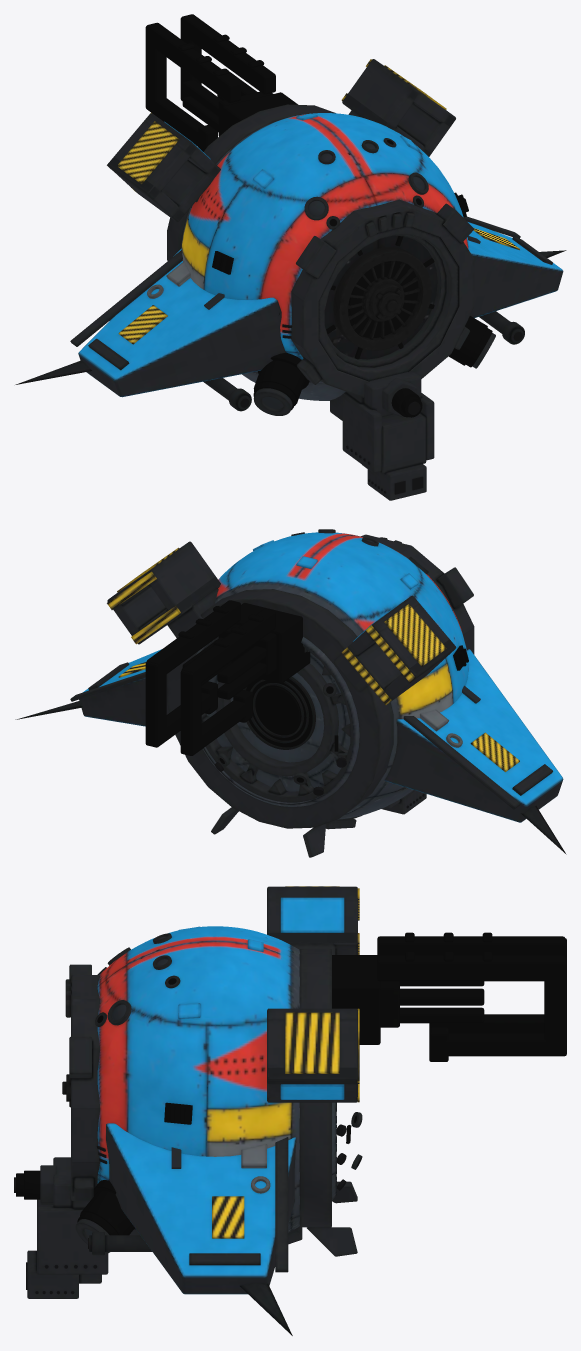
Rendered from probe.glb.
3 views of the same model, one above another, from view 1: azimuth 30°, elevation 25°; view 2: azimuth 150°, elevation 25°; view 3: azimuth 270°, elevation 25° (orthographic). The views are drawn at different scales.
Visible parts, largest first — view 1: Shell, FaceRing, Pod-1, ClampArms, Jaw, EyeBlades, Bracket+1, Pod+1, Bracket-1, EngineRing, BracketHazard-1, Port-1 (+8 smaller); view 2: Shell, EngineRing, ClampArms, Pod-1, Bracket+1, Bracket-1, BracketHazard-1, Pod+1, FaceRing, EngineCore, EngineRings, EngineGlow (+8 smaller); view 3: Shell, ClampArms, Pod+1, FaceRing, Jaw, EngineRing, Bracket+1, BracketHazard+1, Bracket-1, BracketPanel-1, PodEdgeBack+1, Port+1 (+10 smaller).
Part boxes in pixels (box(x1,y1,x2,y2)): Shell: box(181, 113, 468, 400); FaceRing: box(291, 199, 474, 397); Pod-1: box(78, 248, 286, 397); ClampArms: box(145, 14, 298, 151); Jaw: box(330, 371, 434, 500); EyeBlades: box(333, 247, 431, 350); Bracket+1: box(342, 59, 455, 156); Pod+1: box(468, 222, 563, 317); Bracket-1: box(107, 113, 220, 222); EngineRing: box(167, 104, 335, 260); BracketHazard-1: box(107, 112, 179, 190); Port-1: box(253, 352, 309, 410); Shell: box(196, 532, 468, 819); EngineRing: box(167, 589, 393, 828); ClampArms: box(145, 600, 310, 755); Pod-1: box(384, 649, 563, 822); Bracket+1: box(107, 541, 220, 644); Bracket-1: box(334, 595, 456, 703); BracketHazard-1: box(341, 604, 446, 704); Pod+1: box(79, 649, 169, 726); FaceRing: box(361, 534, 474, 654); EngineCore: box(257, 687, 300, 733); EngineRings: box(243, 676, 315, 749); EngineGlow: box(246, 678, 312, 747); Shell: box(97, 926, 336, 1232); ClampArms: box(332, 932, 566, 1061); Pod+1: box(106, 1123, 296, 1294); FaceRing: box(65, 964, 99, 1200); Jaw: box(27, 1157, 139, 1298); EngineRing: box(299, 949, 331, 1227); Bracket+1: box(267, 1008, 357, 1102); BracketHazard+1: box(285, 1008, 359, 1102); Bracket-1: box(267, 886, 357, 954); BracketPanel-1: box(280, 897, 344, 932); PodEdgeBack+1: box(275, 1137, 288, 1272); Port+1: box(77, 1180, 135, 1235).
Bounding box in the file's own units: 2.21 × 1.19 × 1.71.
Materials: 1 (1 with a texture image).
